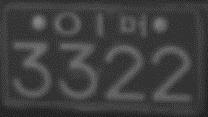0: (53, 10, 83, 36)
1: (88, 11, 111, 36)
2: (150, 44, 194, 103), (104, 43, 146, 101)
3: (58, 41, 98, 100), (12, 41, 52, 99)
머: (119, 12, 147, 39)
